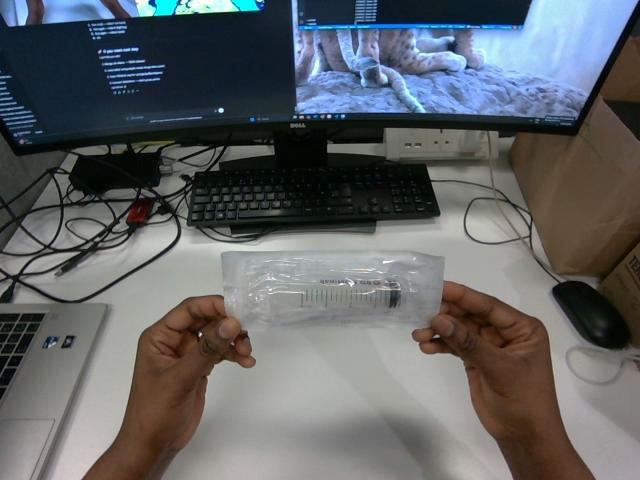syringe: (222, 250, 443, 329)
